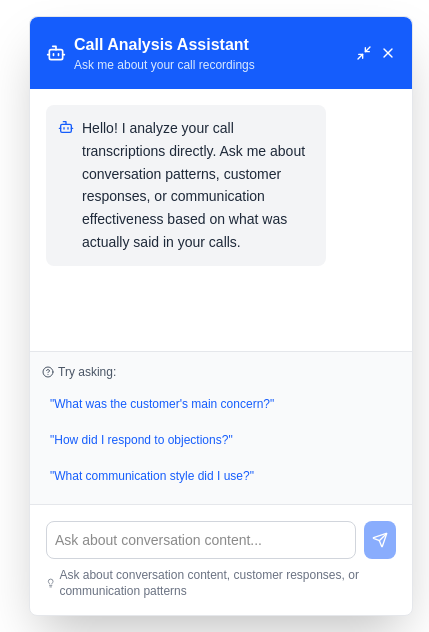
Test: Chatbot Component › Sample Questions › should populate input with sample question when clicked
Click the button "\"What was the customer's main concern?\"" at (221, 404), box [42,388,400,420]
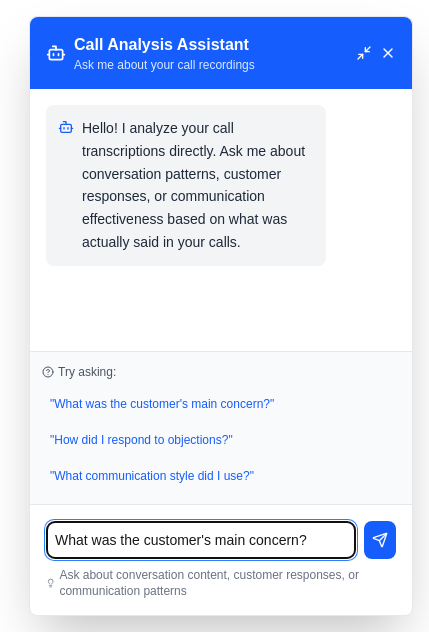
Now the field with placeholder "Ask about conversation content..." holds "What was the customer's main concern?", box [46,521,356,559]
